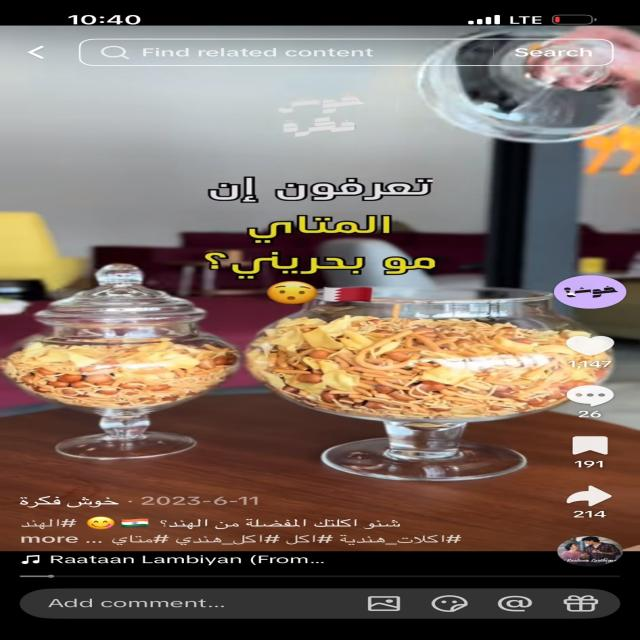Mattai: (0, 305, 640, 434)
